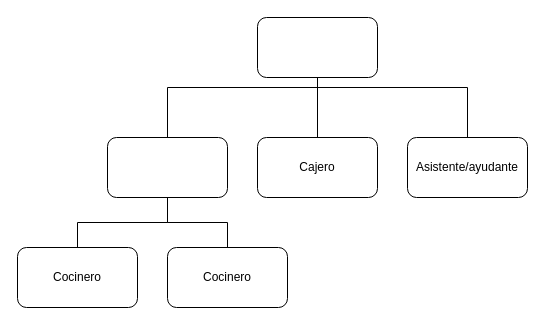
This 545x325 diagram has some shape labels left out. The centre of each missing label's shape, as x and y in pixels:
"Chef" goes at point (167, 167).
"Gerente" goes at point (317, 47).
